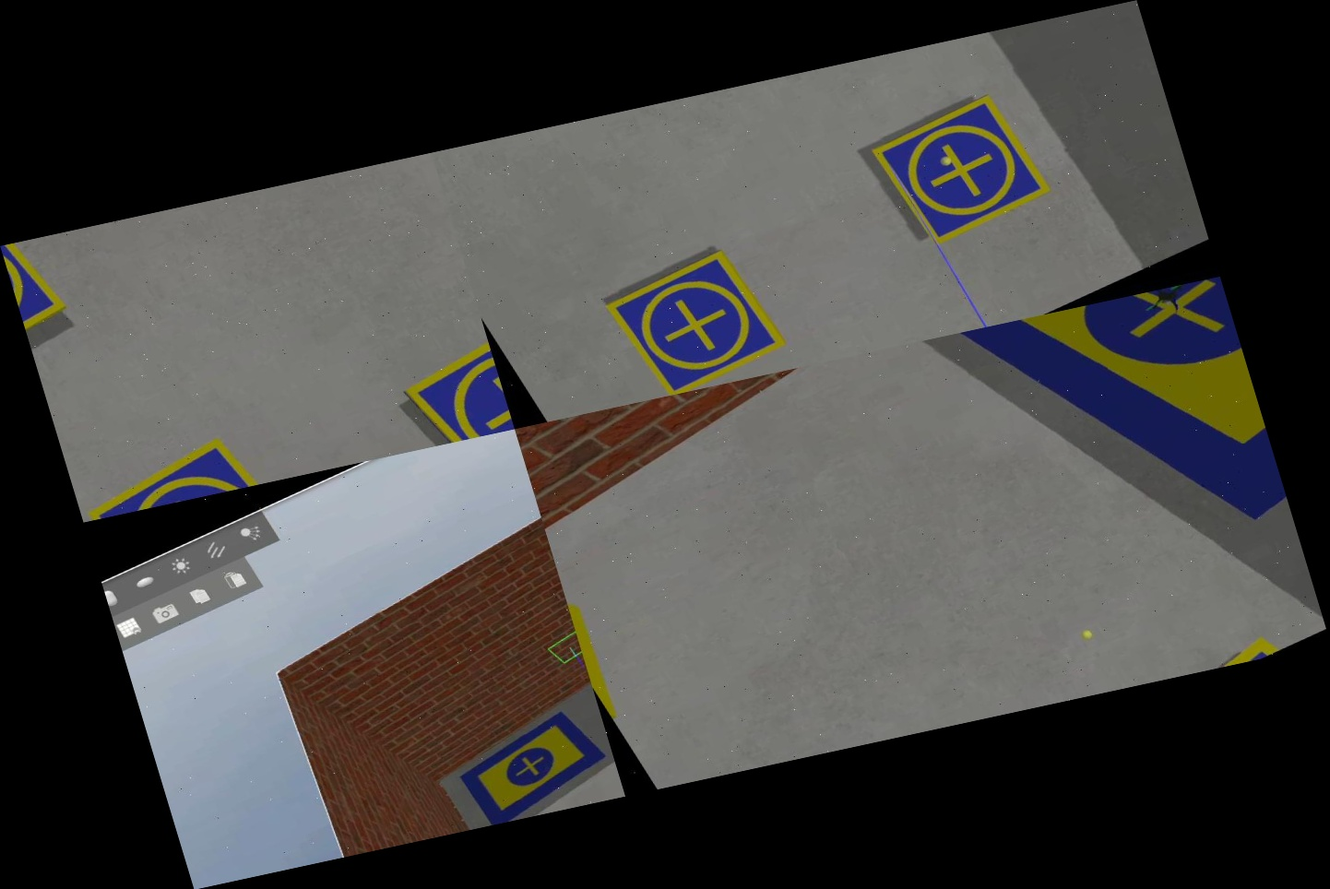large_base: (924, 277, 1300, 610), (445, 701, 625, 828)
small_base: (861, 84, 1064, 255), (596, 238, 799, 403), (66, 419, 296, 522), (383, 316, 515, 450)
